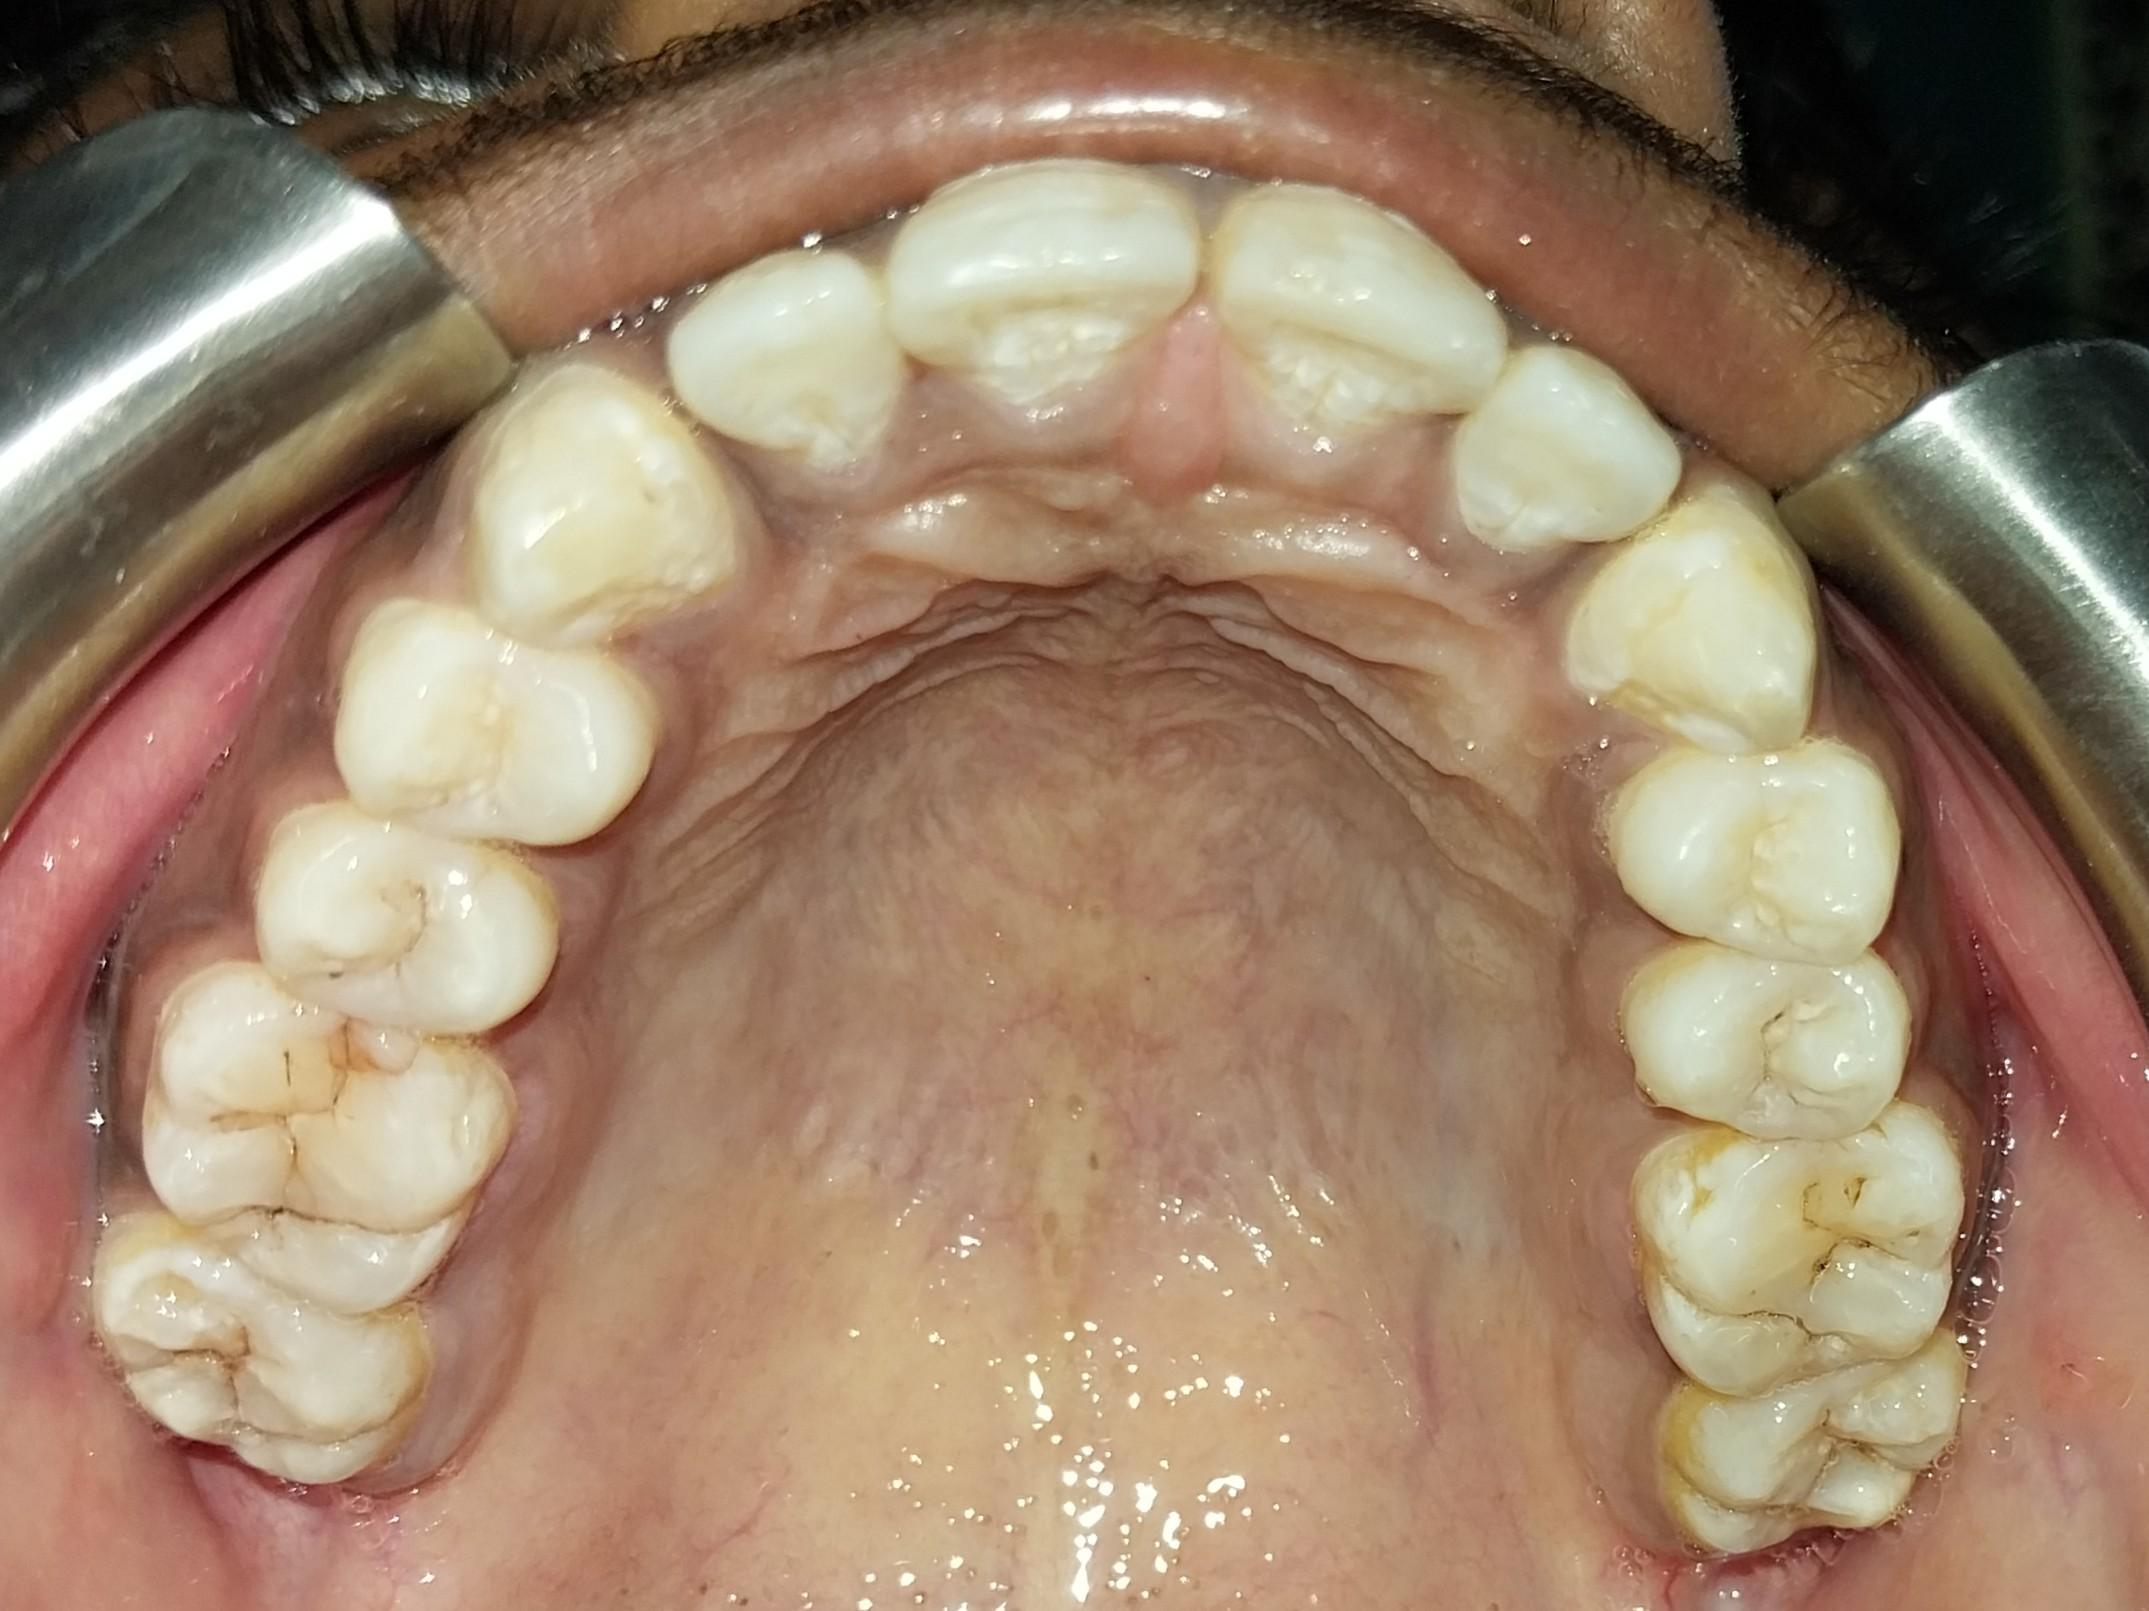D: (157, 977, 513, 1305), (1621, 1124, 1968, 1383), (102, 1233, 424, 1477)
